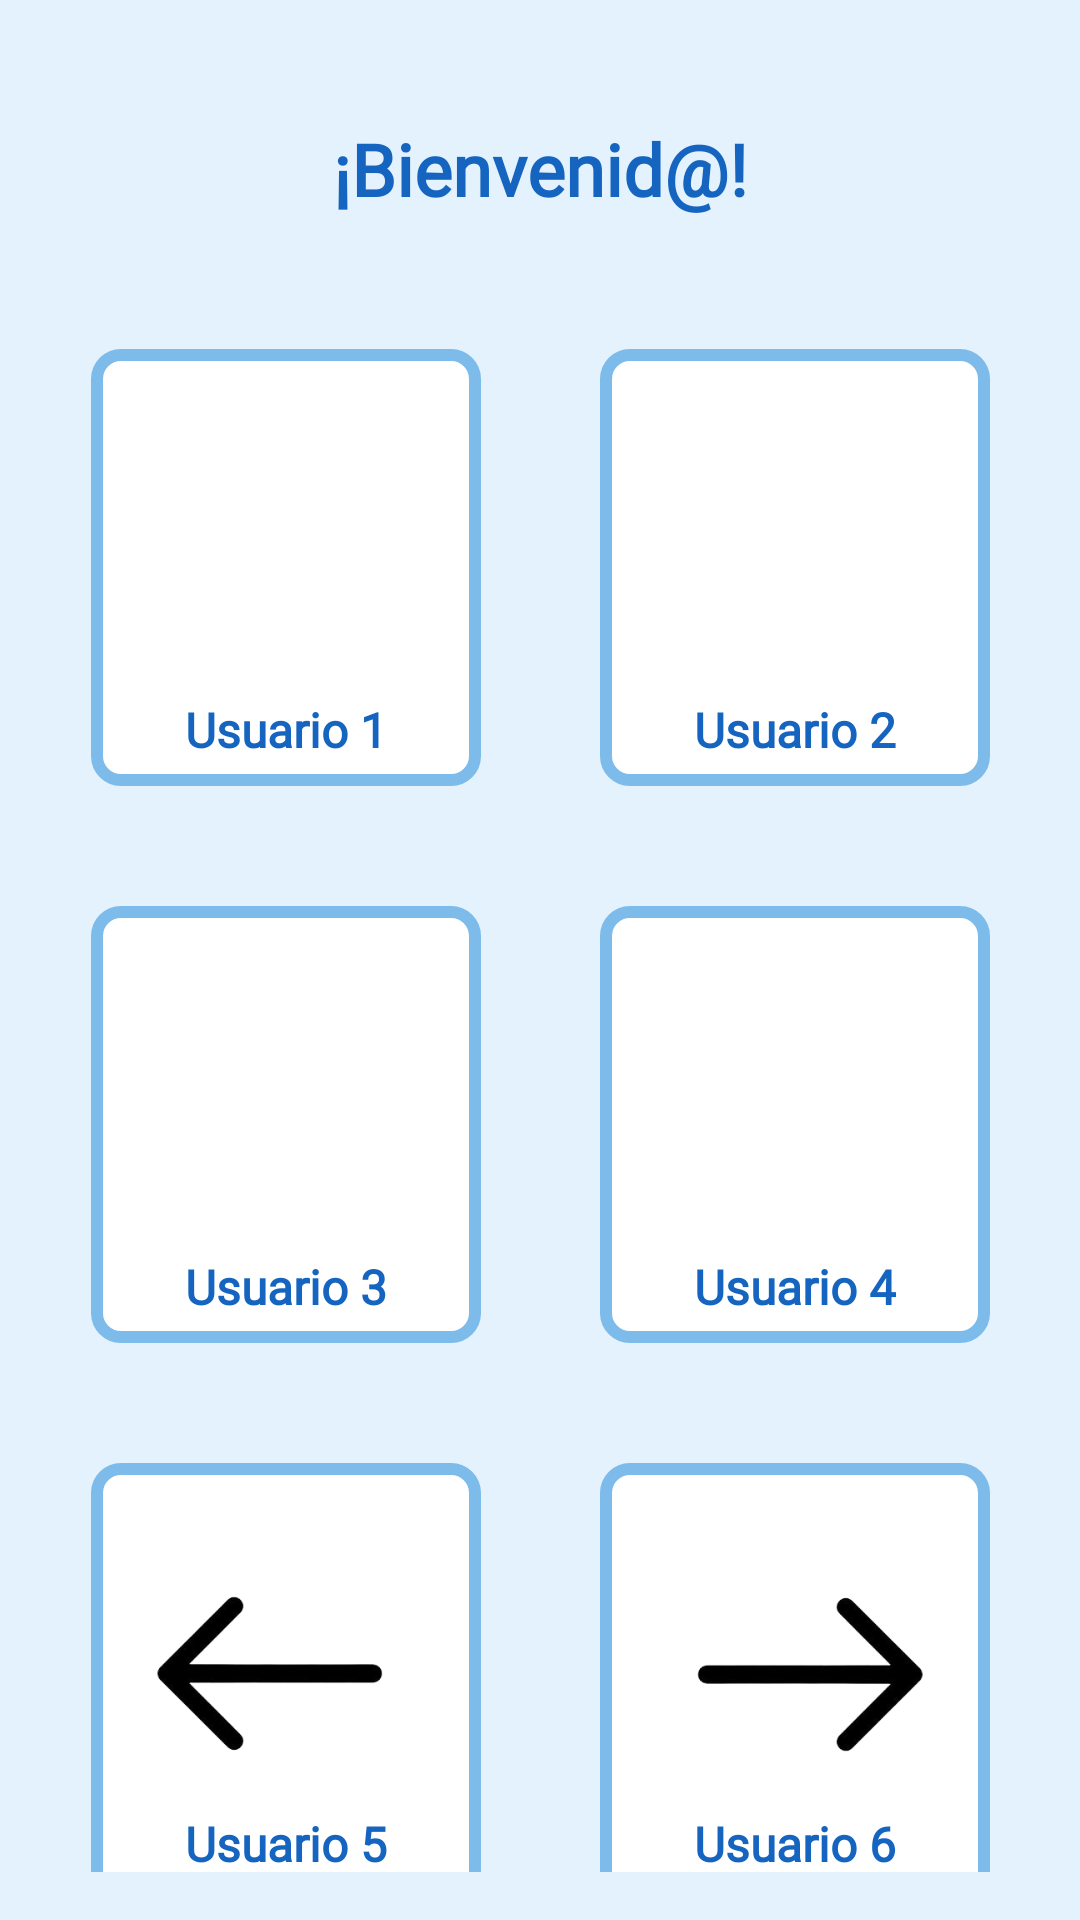

Named icons in this screenshot (1080x1920) and their centers, (x,y):
Flecha derecha: (810,1674)
Flecha izquierda: (269,1673)
